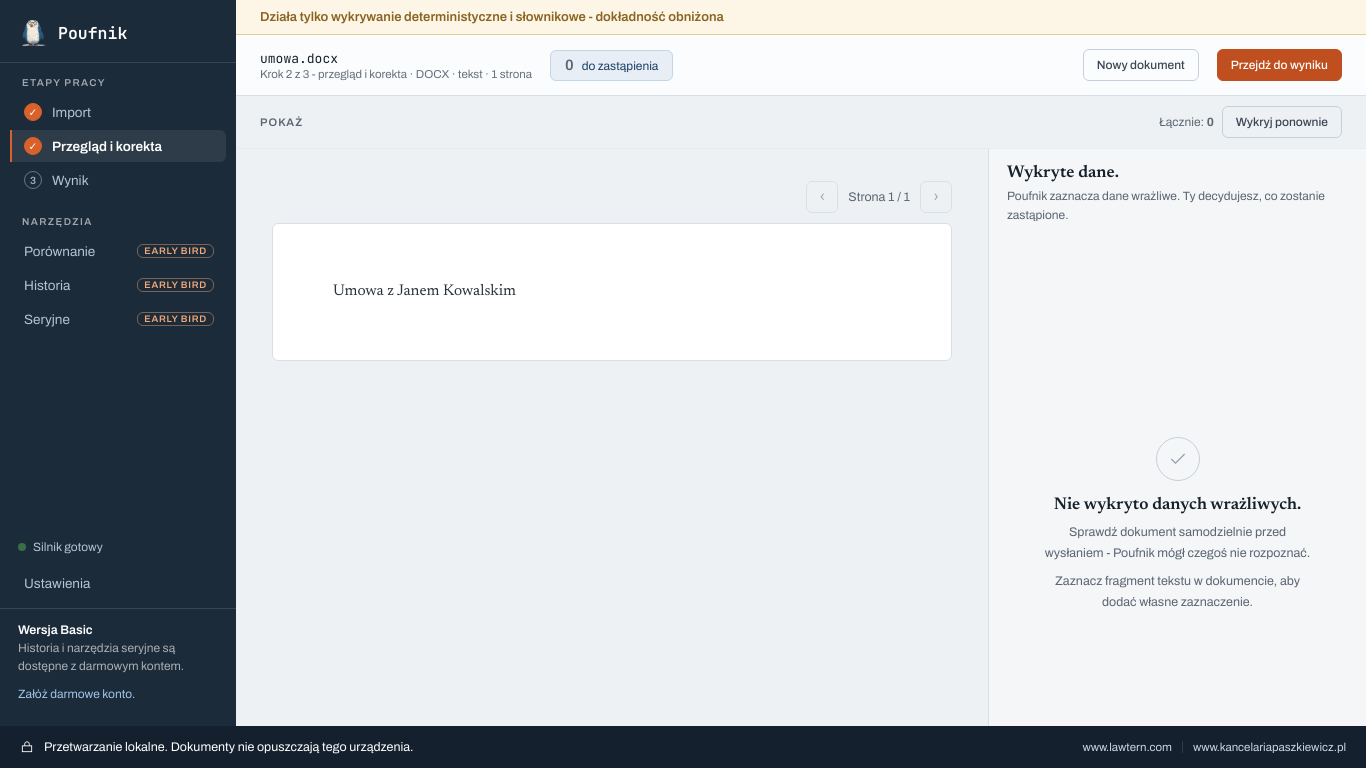
Test: App engine health › explains the simplified PDF when no office program can render the DOCX
Click the button "3 Wynik": (118, 180) [10, 164, 226, 196]
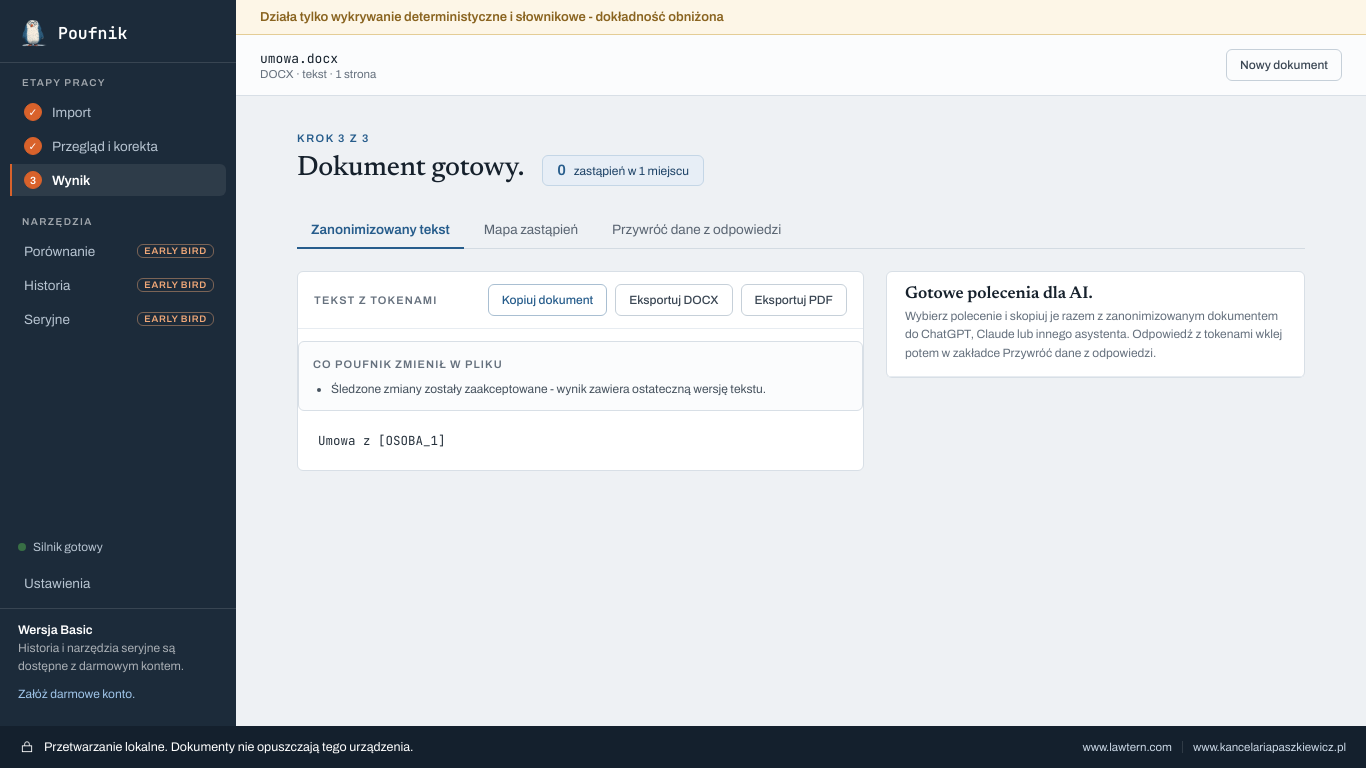
Click the button "Eksportuj PDF": (794, 300) [740, 284, 847, 316]
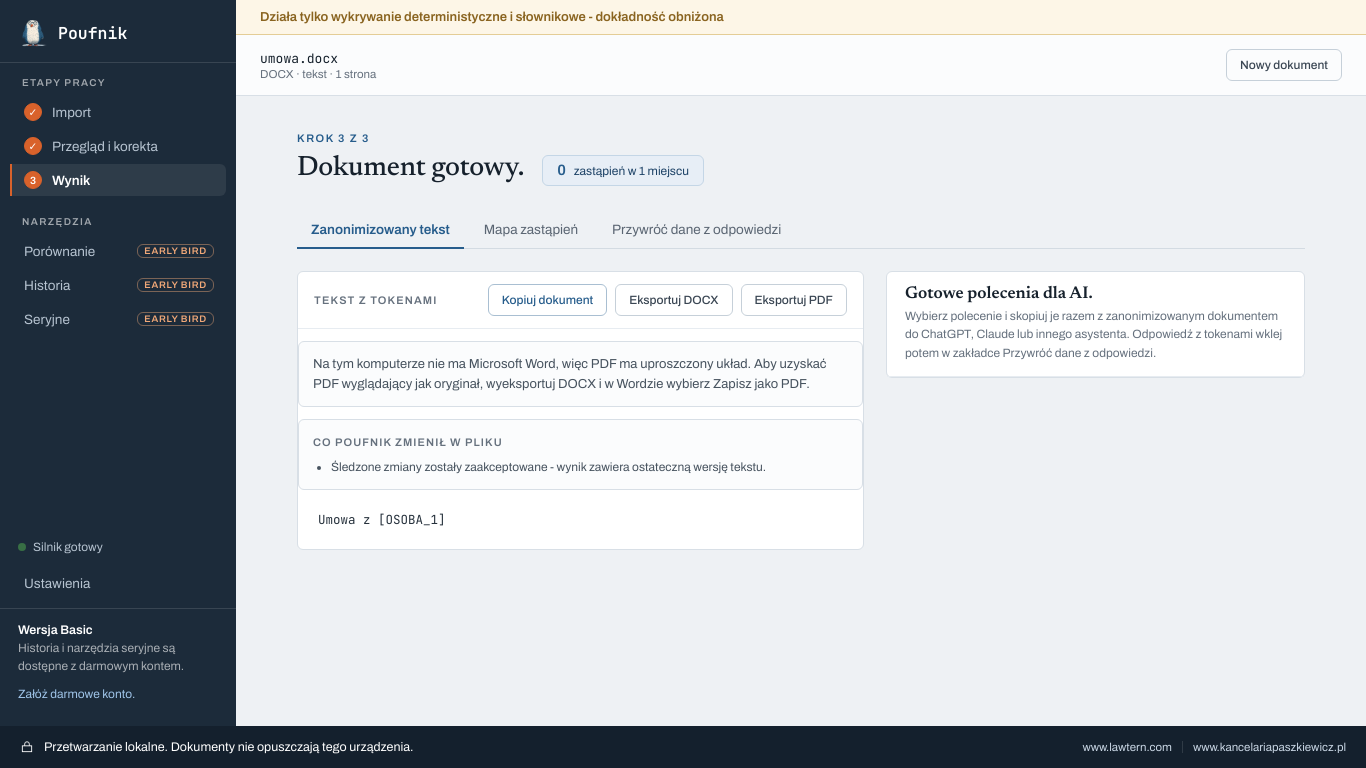
expect the text "Na tym komputerze nie ma Microsoft Word, więc PDF ma uproszczony układ. Aby uzyskać PDF wyglądający jak oryginał, wyeksp" is shown: met, box [313, 357, 827, 391]
